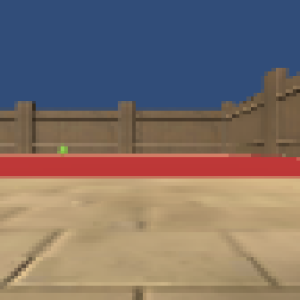deathZone: (1, 154, 300, 178)
goodGoal: (58, 146, 68, 154)
